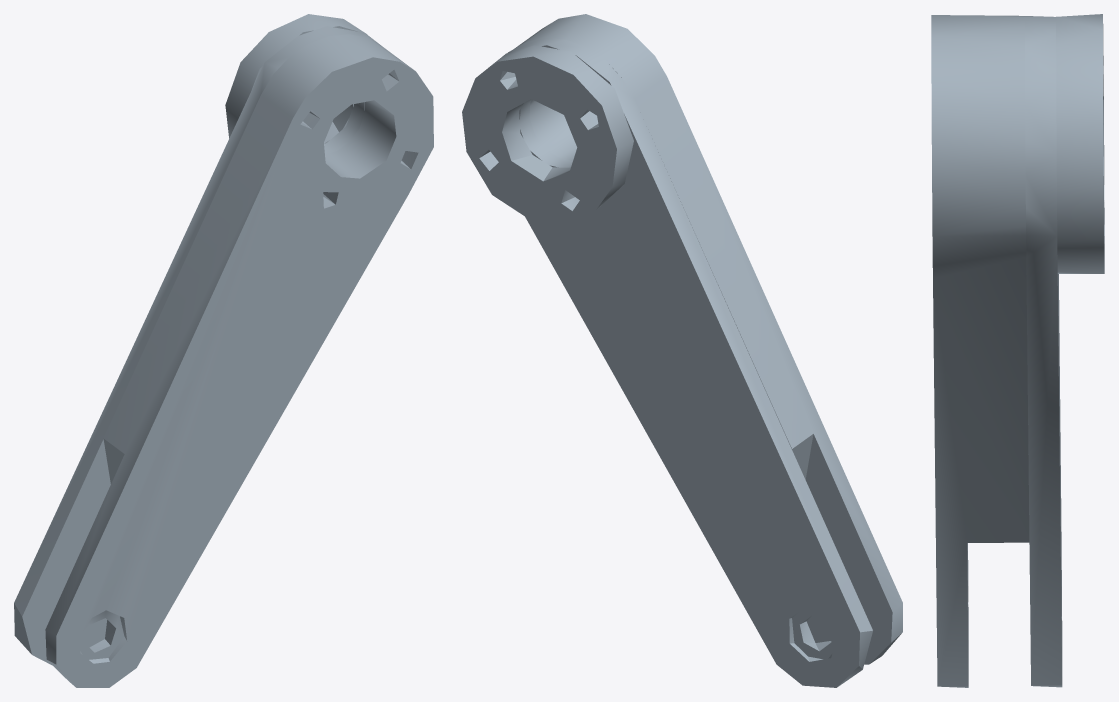
The picture shows the model from 3 angles, left to right: view 1: azimuth 30°, elevation 25°; view 2: azimuth 150°, elevation 25°; view 3: azimuth 270°, elevation 25°; orthographic projection. The views are drawn at different scales.
Visible parts, largest first — view 1: tmp_export_br_link1; view 2: tmp_export_br_link1; view 3: tmp_export_br_link1.
Boxes of the visible parts, x1,y1,x2,y2 form: tmp_export_br_link1: (14,14,433,687); tmp_export_br_link1: (462,14,902,687); tmp_export_br_link1: (931,14,1104,687).
Size of the model in its own units: 0.0623 by 0.0167 by 0.0891.
